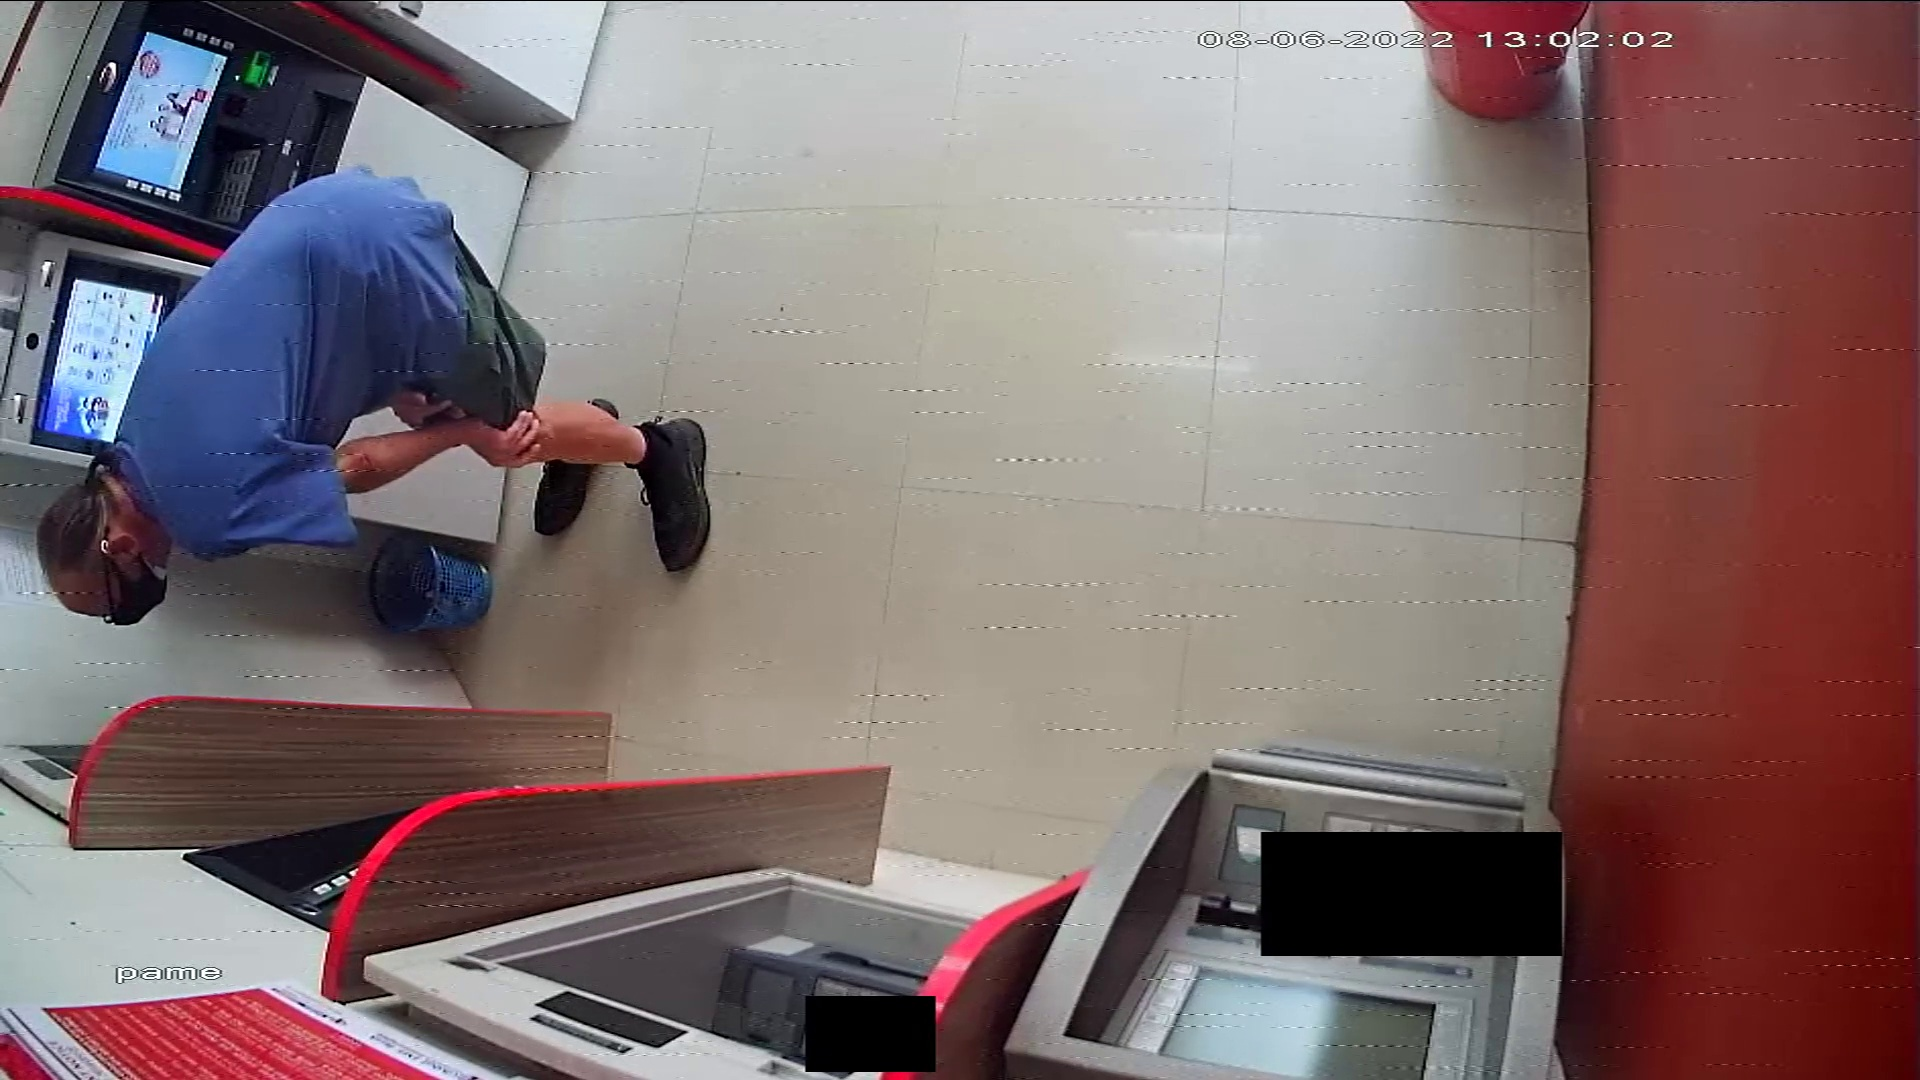person: (33, 166, 708, 629)
